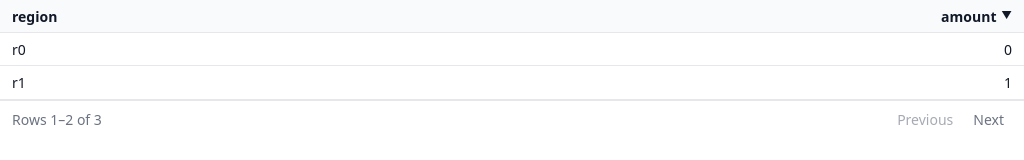
Test: opens on the first page in the default sort and turns pages
Expected: the text "Rows 1–2 of 3" is shown, x1=12 y1=109 x2=102 y2=130
Click the button "Next" at (989, 119), box x1=965 y1=105 x2=1012 y2=134
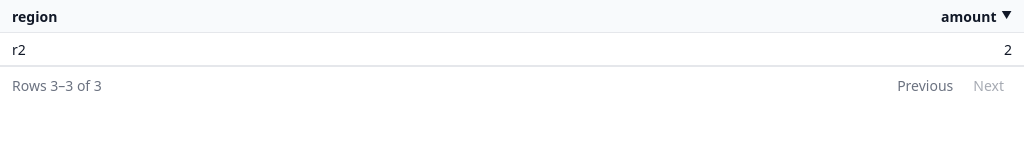
Expected: the text "Rows 3–3 of 3" is shown, x1=12 y1=75 x2=102 y2=96
Expected: the button "Next" is disabled, x1=965 y1=71 x2=1012 y2=100
Expected: the button "Previous" is enabled, x1=889 y1=71 x2=961 y2=100
